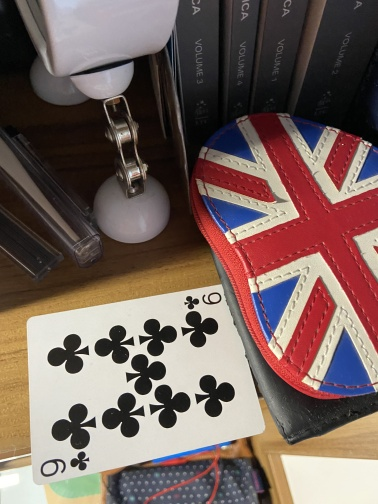nine: (25, 279, 267, 486)
